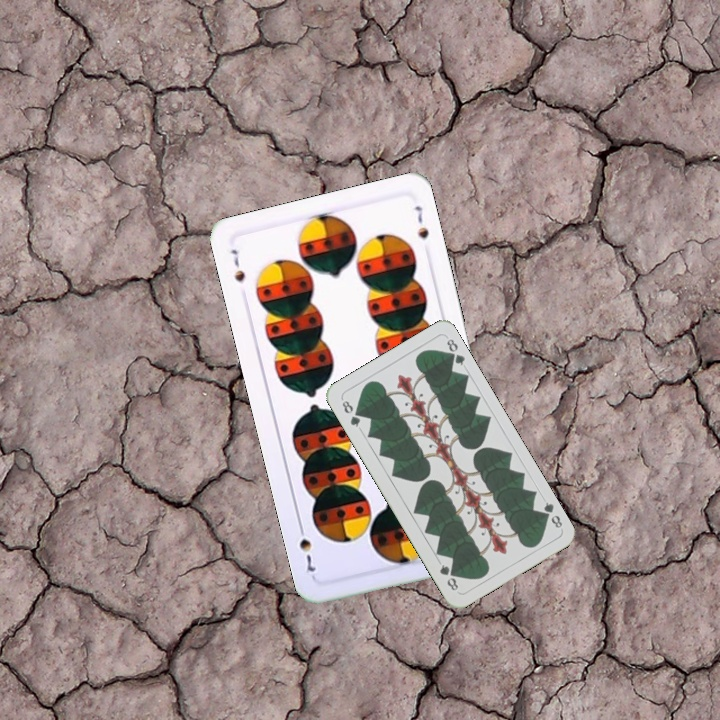G8: (537, 498, 565, 531), (338, 397, 363, 430)
S7: (226, 245, 248, 285)
